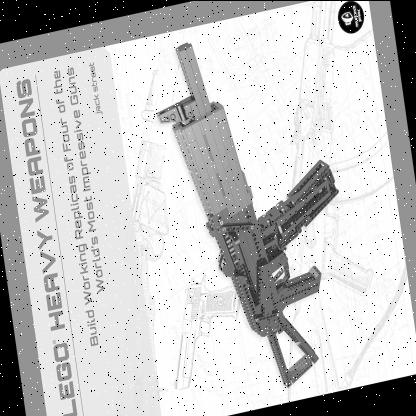rifle: (149, 12, 367, 408)
